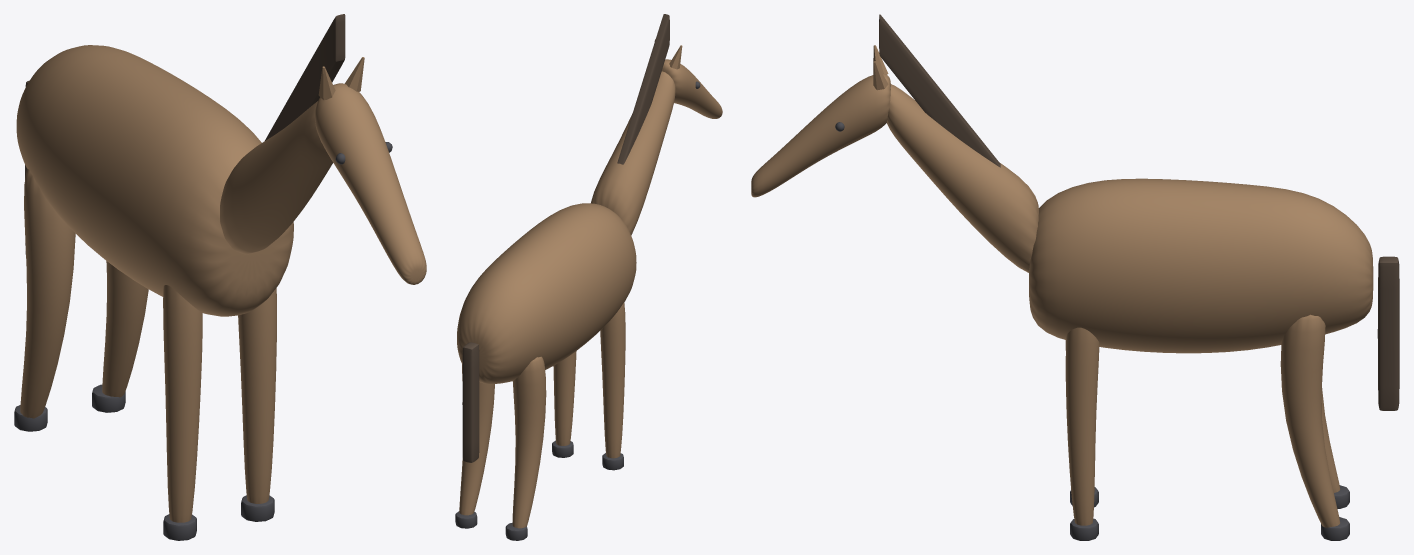
The model's file is horse.glb.
3 views of the same model, side by side, from view 1: azimuth 30°, elevation 25°; view 2: azimuth 150°, elevation 25°; view 3: azimuth 270°, elevation 25° (orthographic). The views are drawn at different scales.
Visible parts, largest first — view 1: horse; view 2: horse; view 3: horse.
Part boxes in pixels (x1,y1,x2,y2): horse: (14, 14, 426, 540); horse: (455, 14, 722, 540); horse: (751, 14, 1399, 540).
Size of what is drawn, in the model's own units: 0.6203 by 2.51 by 2.92.
